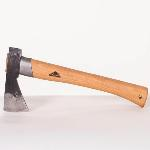Kapak: (1, 38, 150, 124)
